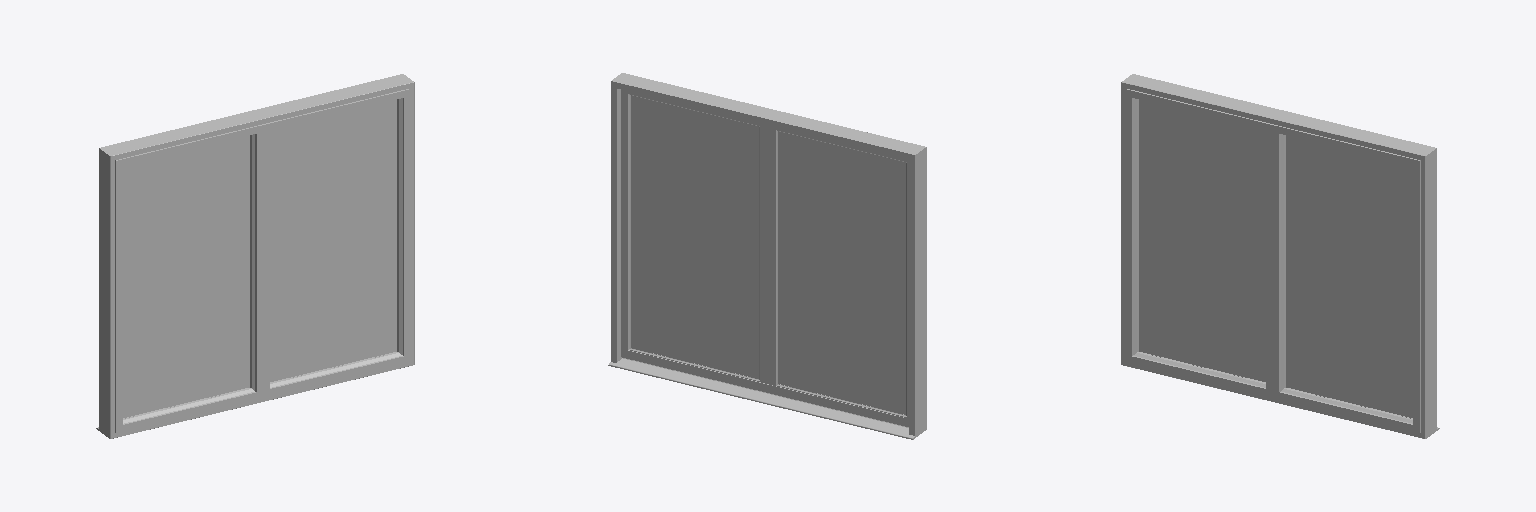
The model's file is ESPACE_O.C._70_TH_WINDOW_side-hung__tilt-turn_2_LEAVES.obj.
The picture shows the model from 3 angles: view 1: azimuth 30°, elevation 25°; view 2: azimuth 150°, elevation 25°; view 3: azimuth 330°, elevation 25°; orthographic projection.
Visible parts, largest first — view 1: INS010007_ESPACE__O_C__70_TH_WINDOW__side_hung__tilt_turn__2_LEA; view 2: INS010007_ESPACE__O_C__70_TH_WINDOW__side_hung__tilt_turn__2_LEA; view 3: INS010007_ESPACE__O_C__70_TH_WINDOW__side_hung__tilt_turn__2_LEA.
Boxes of the visible parts, <box> form: INS010007_ESPACE__O_C__70_TH_WINDOW__side_hung__tilt_turn__2_LEA: <box>96,74,414,438</box>; INS010007_ESPACE__O_C__70_TH_WINDOW__side_hung__tilt_turn__2_LEA: <box>608,73,926,439</box>; INS010007_ESPACE__O_C__70_TH_WINDOW__side_hung__tilt_turn__2_LEA: <box>1121,74,1439,438</box>.
Bounding box in the file's own units: 1800 × 1600 × 151.